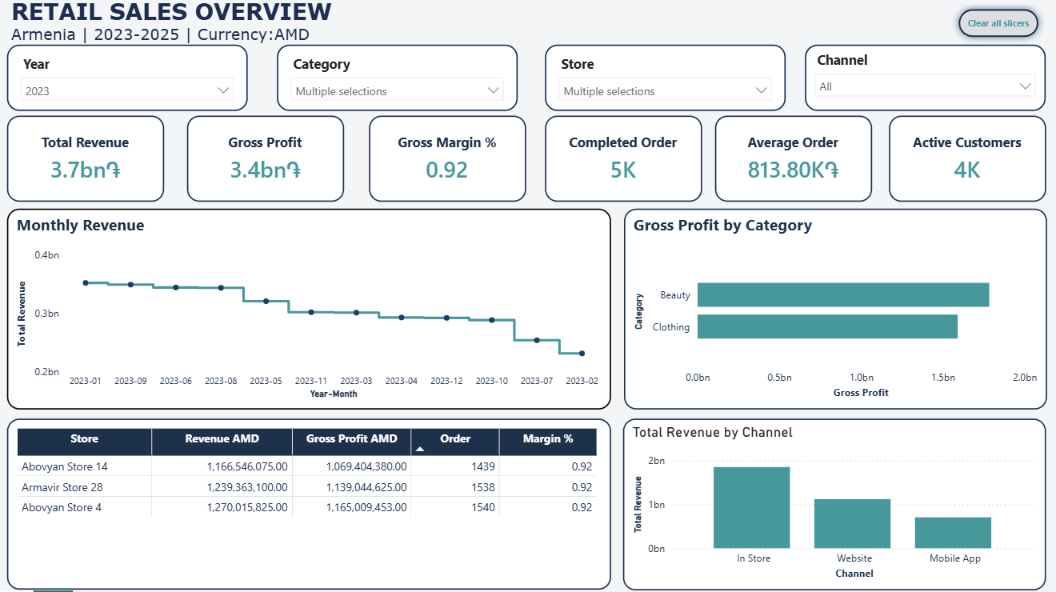

This screenshot's page, from the dashboard's own definition file:
{"tool":"powerbi","page":{"name":"Page 1","canvas":[1280,720],"ordinal":0},"visuals":[{"type":"textbox","box":[13.7,0,1266.6,70],"z":0},{"type":"slicer","title":"Year","fields":{"Values":["DimDate.Year"]},"box":[13.8,61.6,290,80.1],"z":1000},{"type":"slicer","title":"Year","fields":{"Values":["Products.category"]},"box":[339,61.5,290,80.1],"z":2000},{"type":"slicer","title":"Year","fields":{"Values":["Stores.store_name"]},"box":[662.3,61.5,290,80.1],"z":3000},{"type":"slicer","title":"Year","fields":{"Values":["Retail_Sales.channel"]},"box":[976,61.5,290,80.1],"z":4000},{"type":"cardVisual","fields":{"Data":["KeyMeasures.Total Revenue"]},"box":[13.3,147.4,189.4,103.8],"z":5000},{"type":"cardVisual","fields":{"Data":["KeyMeasures.Gross Profit"]},"box":[230.4,147.4,189.4,103.8],"z":6000},{"type":"cardVisual","fields":{"Data":["KeyMeasures.Gross Margin %"]},"box":[450,147.4,189.4,103.8],"z":7000},{"type":"cardVisual","fields":{"Data":["KeyMeasures.Completed Orders"]},"box":[662.3,147.4,189.4,103.8],"z":8000},{"type":"cardVisual","fields":{"Data":["KeyMeasures.Average Order Value"]},"box":[867.4,147.4,189.4,103.8],"z":9000},{"type":"cardVisual","fields":{"Data":["KeyMeasures.Active Customers"]},"box":[1077.4,147.4,189.4,103.8],"z":10000},{"type":"lineChart","title":"Monthly Revenue","fields":{"Y":["KeyMeasures.Total Revenue"],"Category":["DimDate.Year-Month"]},"box":[12.8,259.5,728.5,242.4],"z":10001},{"type":"barChart","title":"Gross Profit by Category","fields":{"Y":["KeyMeasures.Gross Profit"],"Category":["Products.category"]},"box":[757.1,259.5,510.4,242.4],"z":10002},{"type":"tableEx","fields":{"Values":["Stores.store_name","KeyMeasures.Total Revenue","KeyMeasures.Gross Profit","KeyMeasures.Completed Order","KeyMeasures.Gross Margin %"]},"box":[12.8,513.3,728.5,206.7],"z":10003},{"type":"columnChart","fields":{"Y":["KeyMeasures.Total Revenue"],"Category":["Retail_Sales.channel"]},"box":[757,513,510,207],"z":10004},{"type":"actionButton","box":[1153.9,10.6,112.2,49.6],"z":10006}]}

Visuals, with their boxes in screenshot pixels (x1, y1, x2, y2), scaled from the page's 1280x720 canvas onto the 1056x592 screenshot:
textbox: left=11, top=0, right=1055, bottom=58
"Year" slicer: left=11, top=51, right=251, bottom=117
"Year" slicer: left=280, top=51, right=519, bottom=116
"Year" slicer: left=546, top=51, right=786, bottom=116
"Year" slicer: left=805, top=51, right=1044, bottom=116
cardVisual - KeyMeasures.Total Revenue: left=11, top=121, right=167, bottom=207
cardVisual - KeyMeasures.Gross Profit: left=190, top=121, right=346, bottom=207
cardVisual - KeyMeasures.Gross Margin %: left=371, top=121, right=528, bottom=207
cardVisual - KeyMeasures.Completed Orders: left=546, top=121, right=703, bottom=207
cardVisual - KeyMeasures.Average Order Value: left=716, top=121, right=872, bottom=207
cardVisual - KeyMeasures.Active Customers: left=889, top=121, right=1045, bottom=207
"Monthly Revenue" lineChart: left=11, top=213, right=612, bottom=413
"Gross Profit by Category" barChart: left=625, top=213, right=1046, bottom=413
tableEx - Stores.store_name x KeyMeasures.Total Revenue: left=11, top=422, right=612, bottom=591
columnChart - KeyMeasures.Total Revenue x Retail_Sales.channel: left=625, top=422, right=1045, bottom=591
actionButton: left=952, top=9, right=1045, bottom=49
